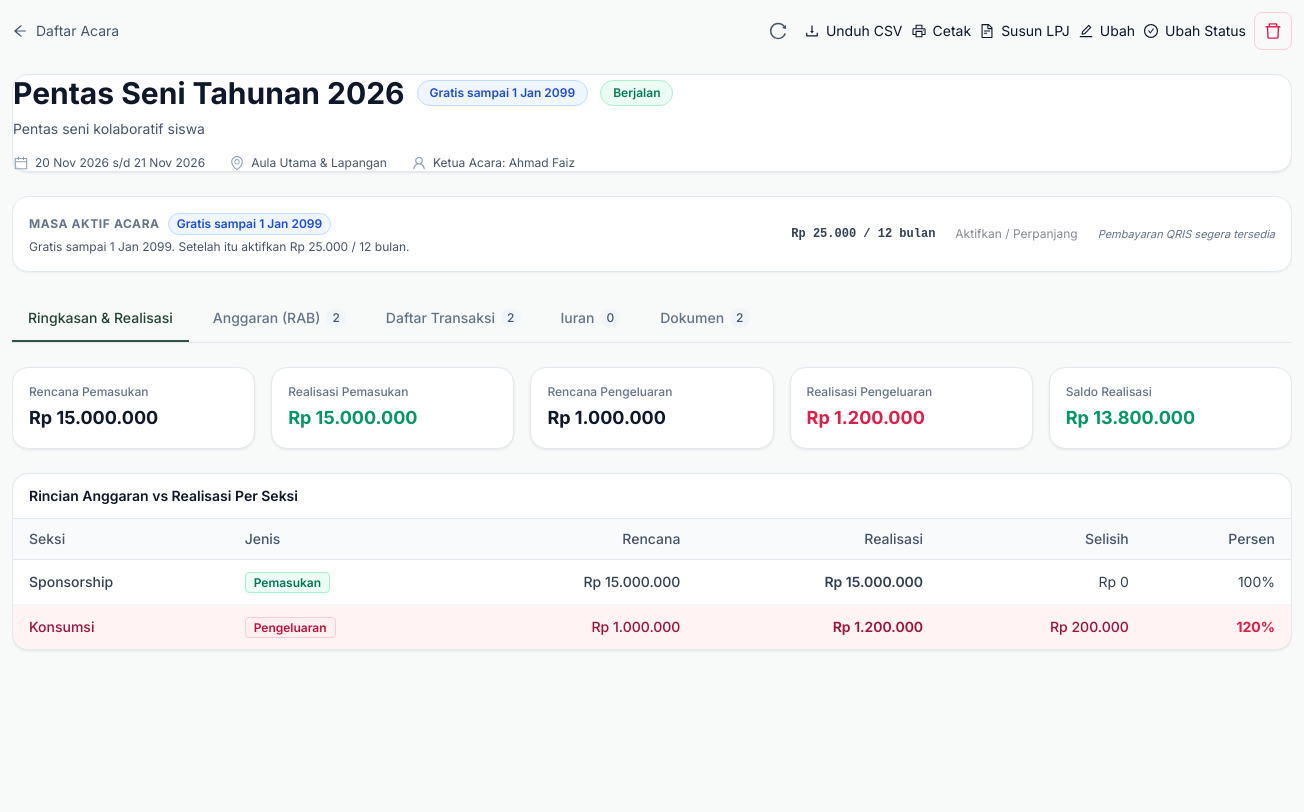
Test: PANITIA-1.7: ProgramDetail Page › PANITIA-3.4: Tab Dokumen › daftar dokumen tampil dikelompokkan per tipe
The width and height of the screenshot is (1304, 812).
Check: the heading "Pentas Seni Tahunan 2026" is shown, box [13,75,405,111]
Click the button "Dokumen 2": point(705, 319) [644,296,766,342]
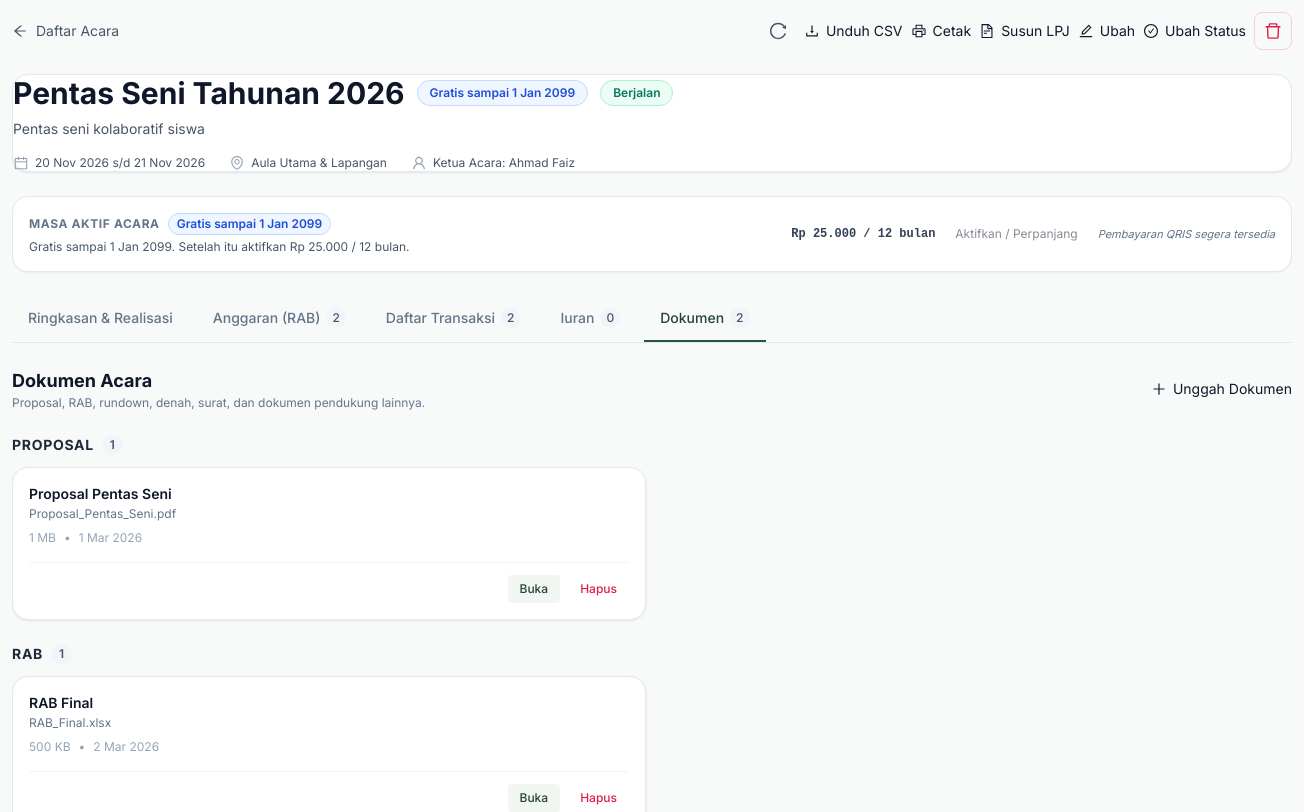
Check: the heading "Proposal Pentas Seni" is shown, box [29,485,172,502]
Check: the text "Proposal_Pentas_Seni.pdf" is shown, box [29,506,176,521]
Check: the heading "RAB Final" is shown, box [29,694,93,711]
